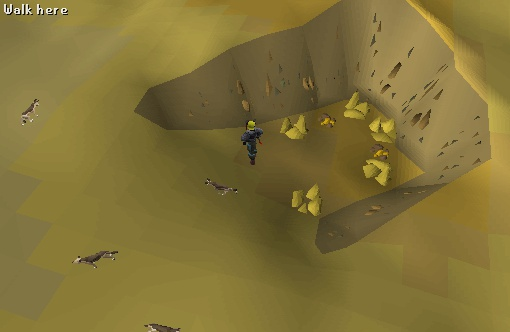gold: (357, 149, 402, 193), (285, 180, 332, 219), (273, 111, 317, 145), (337, 88, 374, 125)
